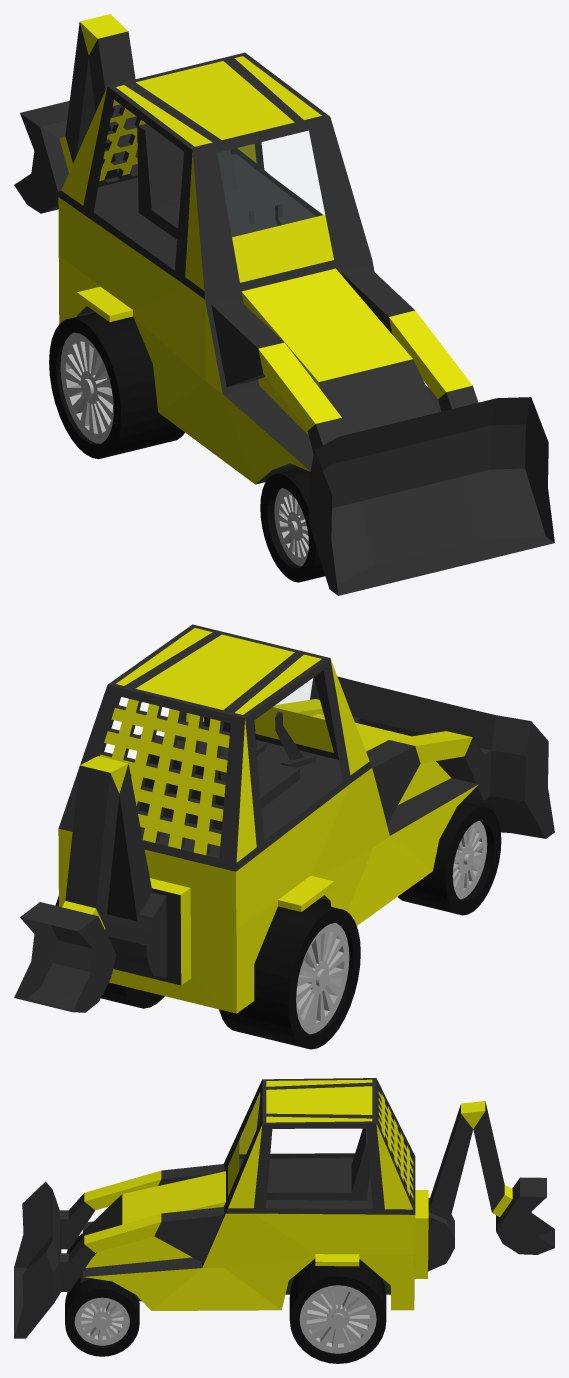
The model's file is tractopelle1.fbx.
The picture shows the model from 3 angles, top to bottom: view 1: azimuth 30°, elevation 25°; view 2: azimuth 150°, elevation 25°; view 3: azimuth 270°, elevation 25°; orthographic projection. The views are drawn at different scales.
Parts seen in each view (by area): view 1: Tractopelle, RouesArriere, Cube, RoueAvantD; view 2: Tractopelle, Cube, RouesArriere, RoueAvantD; view 3: Tractopelle, RouesArriere, Cube, RoueAvantG.
Part boxes in pixels (x1,y1,x2,y2): Tractopelle: [58, 52, 554, 595]; RouesArriere: [49, 312, 184, 458]; Cube: [14, 14, 137, 213]; RoueAvantD: [260, 468, 325, 582]; Tractopelle: [58, 624, 554, 1013]; Cube: [14, 756, 152, 1012]; RouesArriere: [55, 895, 360, 1049]; RoueAvantD: [398, 801, 501, 915]; Tractopelle: [14, 1078, 454, 1338]; RouesArriere: [289, 1259, 386, 1363]; Cube: [428, 1101, 554, 1254]; RoueAvantG: [65, 1278, 139, 1356].
Bounding box in the file's own units: 616 × 827 × 1796.
